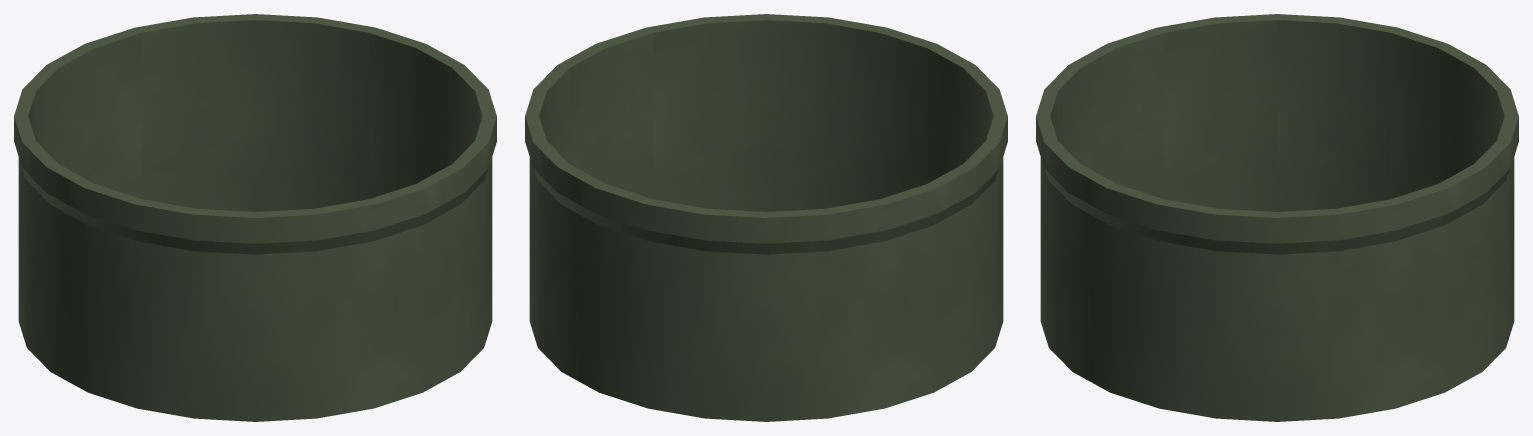
Rendered from engine fairing.obj.
The picture shows the model from 3 angles, left to right: view 1: azimuth 30°, elevation 25°; view 2: azimuth 150°, elevation 25°; view 3: azimuth 270°, elevation 25°; orthographic projection.
Parts seen in each view (by area): view 1: fairing; view 2: fairing; view 3: fairing.
Part boxes in pixels (<box>): fairing: <box>14,14,496,421</box>; fairing: <box>525,14,1007,421</box>; fairing: <box>1036,14,1518,421</box>.
Bounding box in the file's own units: 1.27 × 0.6 × 1.27.
